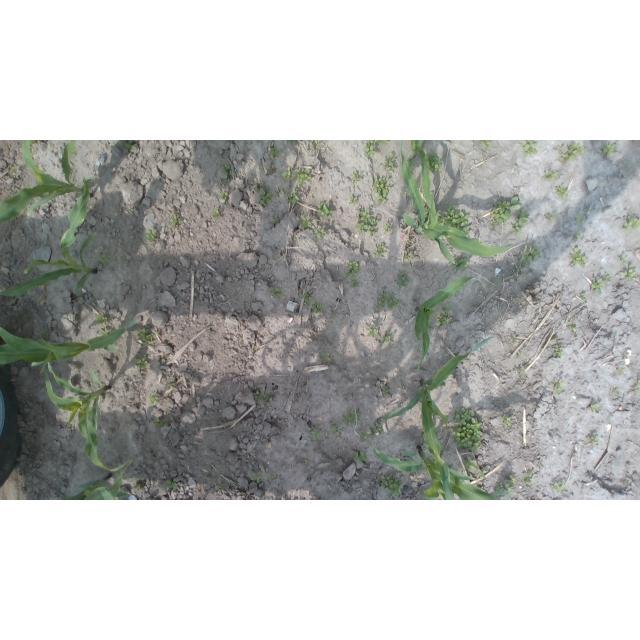Maize: (380, 336, 497, 501), (400, 140, 513, 265), (0, 174, 96, 298), (41, 362, 129, 471), (0, 140, 94, 224), (415, 276, 488, 373), (371, 445, 495, 500), (2, 325, 127, 373), (60, 464, 129, 500), (406, 141, 453, 172)
Weeds: (453, 407, 483, 453), (436, 203, 470, 239), (491, 197, 522, 228), (355, 208, 379, 236), (556, 141, 584, 164), (379, 475, 403, 498), (373, 176, 392, 205), (425, 149, 444, 174), (513, 210, 530, 235), (377, 292, 401, 309), (591, 274, 611, 294), (569, 248, 588, 269), (519, 246, 541, 264), (380, 151, 394, 173), (317, 202, 334, 220), (294, 168, 312, 185), (436, 307, 453, 325), (519, 140, 538, 156), (494, 484, 512, 500), (622, 264, 638, 282), (340, 411, 360, 425), (448, 257, 468, 271), (97, 251, 114, 267), (136, 328, 152, 345), (343, 260, 359, 277), (624, 216, 640, 233), (253, 390, 270, 405), (600, 142, 616, 157), (143, 228, 159, 242), (116, 141, 136, 152), (464, 456, 479, 470), (374, 245, 388, 260), (542, 170, 561, 181), (169, 215, 183, 229), (397, 271, 410, 286), (555, 185, 568, 200), (261, 188, 272, 205), (553, 379, 564, 396), (300, 214, 313, 228), (136, 355, 149, 369), (281, 166, 293, 181), (382, 333, 394, 348), (365, 140, 376, 156), (289, 188, 300, 204), (352, 451, 368, 462), (311, 304, 327, 315), (96, 313, 109, 325), (520, 474, 532, 487), (320, 351, 333, 363), (551, 482, 565, 493), (309, 427, 320, 441), (270, 287, 281, 301), (301, 294, 315, 305), (314, 228, 327, 239), (154, 418, 168, 428), (351, 172, 363, 183), (216, 189, 228, 200), (147, 393, 159, 404), (166, 479, 179, 489), (590, 402, 603, 412), (367, 324, 377, 337), (383, 222, 393, 235), (329, 422, 339, 435), (590, 434, 599, 447), (375, 422, 383, 436), (271, 147, 282, 157), (475, 469, 486, 479), (212, 208, 221, 220), (222, 164, 233, 173), (503, 417, 512, 428), (618, 255, 627, 266), (251, 475, 263, 483), (272, 213, 281, 223), (553, 348, 563, 357), (508, 474, 517, 484), (360, 431, 369, 441), (8, 167, 16, 178), (253, 179, 260, 191), (100, 330, 112, 337), (544, 215, 556, 222), (614, 367, 624, 375), (480, 141, 491, 148), (215, 482, 223, 491), (519, 368, 525, 380), (611, 387, 620, 395), (403, 252, 411, 261), (574, 232, 582, 241), (576, 215, 583, 225), (311, 140, 319, 148), (274, 188, 282, 196), (350, 196, 358, 204), (567, 324, 575, 332), (134, 484, 143, 491), (376, 140, 389, 144), (633, 387, 640, 394), (579, 293, 585, 301), (268, 475, 277, 480), (229, 172, 236, 178), (573, 453, 578, 461), (383, 388, 388, 396), (287, 140, 297, 144), (511, 335, 517, 341), (351, 280, 357, 286), (252, 345, 257, 352), (224, 179, 231, 184)
